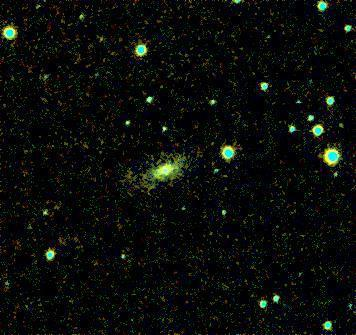star: (260, 210, 290, 240)
